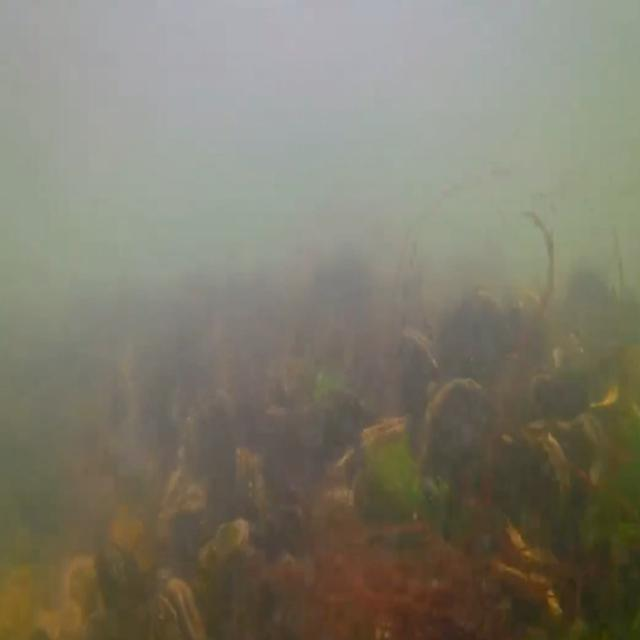Oyster-Closed: (400, 330, 442, 464), (360, 414, 414, 466), (197, 520, 250, 572)
Oyster-Indeterminate: (419, 381, 509, 489), (497, 427, 572, 523), (528, 420, 610, 494), (197, 390, 237, 516), (491, 557, 562, 618), (235, 446, 272, 540), (168, 406, 200, 506), (156, 485, 207, 544), (507, 520, 568, 566)
Oyster-Open: (151, 578, 206, 640)
